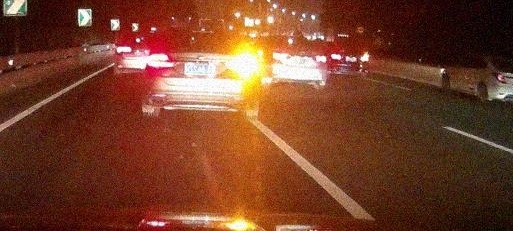L_light: (146, 53, 175, 68)
R_light: (228, 56, 256, 70)
T_light: (193, 35, 210, 38)
night-right: (143, 31, 259, 119)
